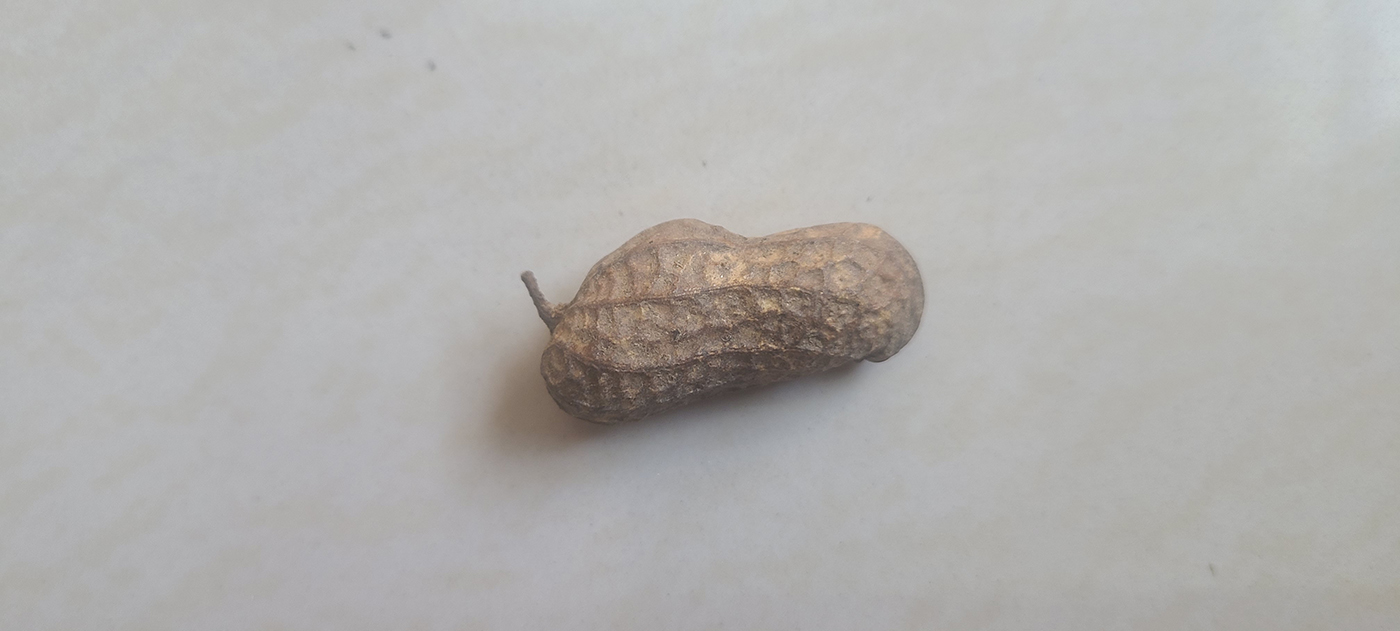l: (538, 212, 929, 420)
